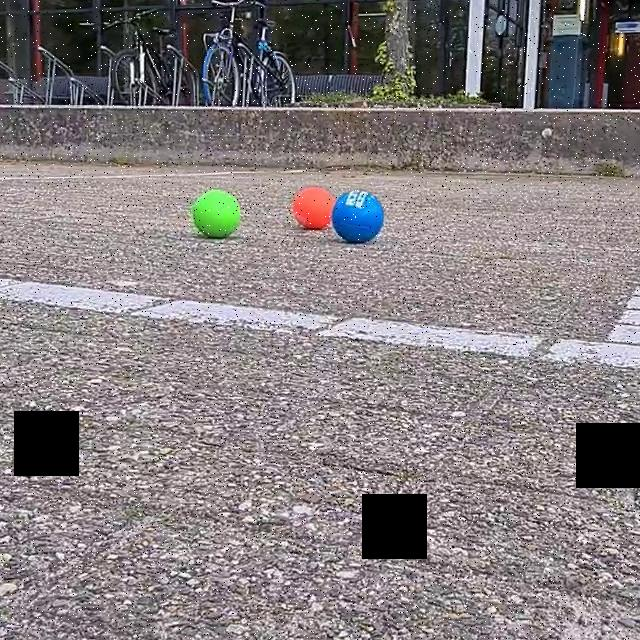ball: (328, 184, 386, 246), (190, 187, 244, 243), (290, 184, 338, 230)
